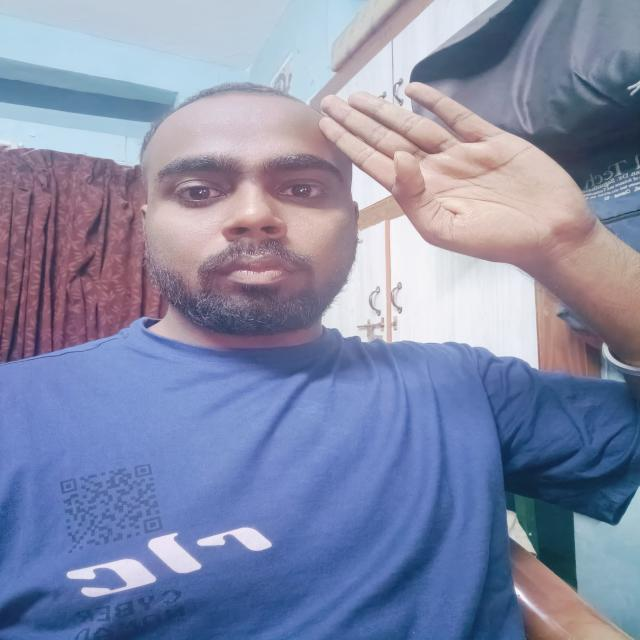Hi: (228, 68, 622, 274)
